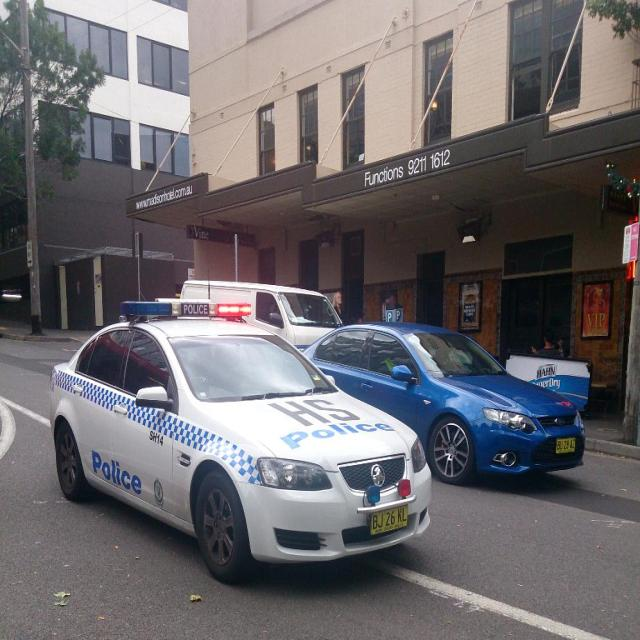car: (32, 304, 430, 585)
